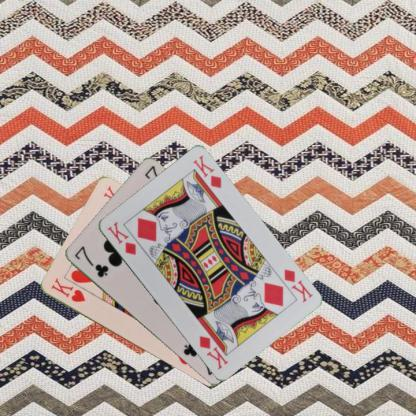7c: (72, 243, 110, 279)
Kd: (104, 218, 138, 256), (281, 266, 314, 304)
Kh: (48, 276, 87, 304)
